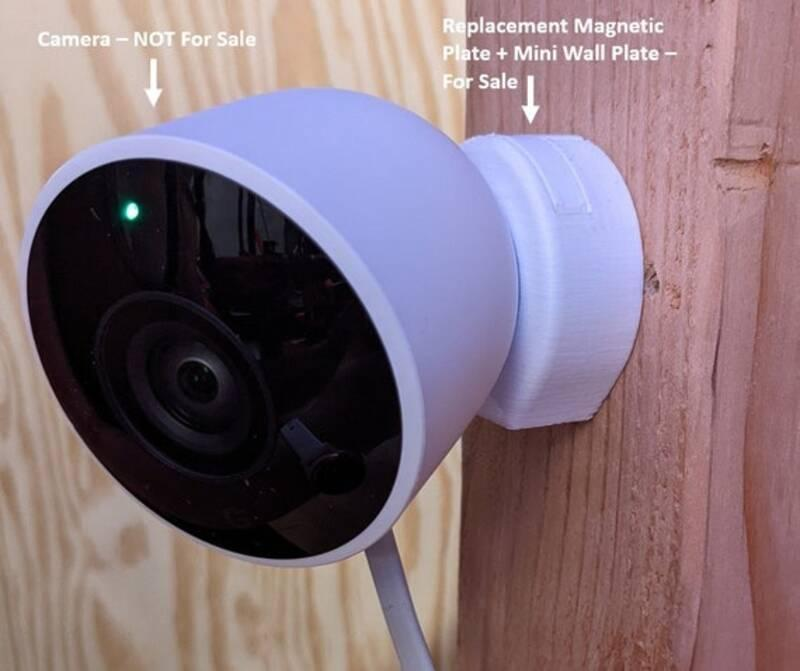nest: (26, 83, 516, 561)
